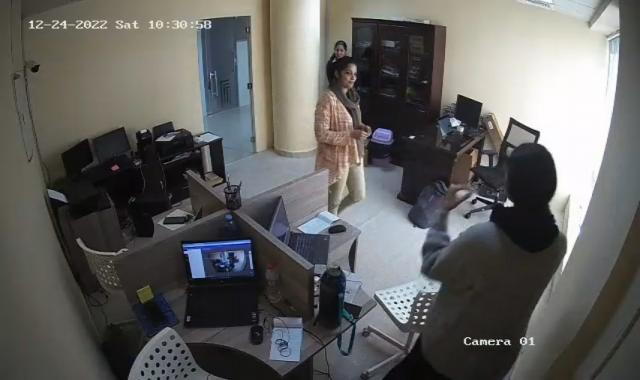no_hairnet: (503, 140, 555, 208), (331, 55, 361, 93), (330, 37, 347, 62)
